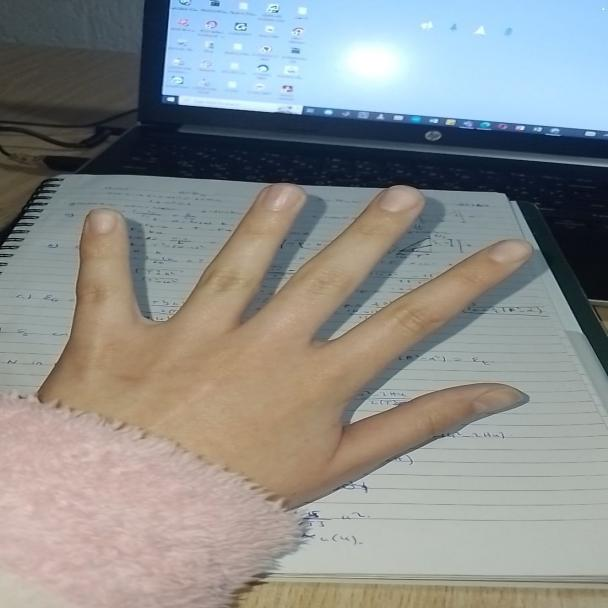five: (17, 164, 567, 563)
